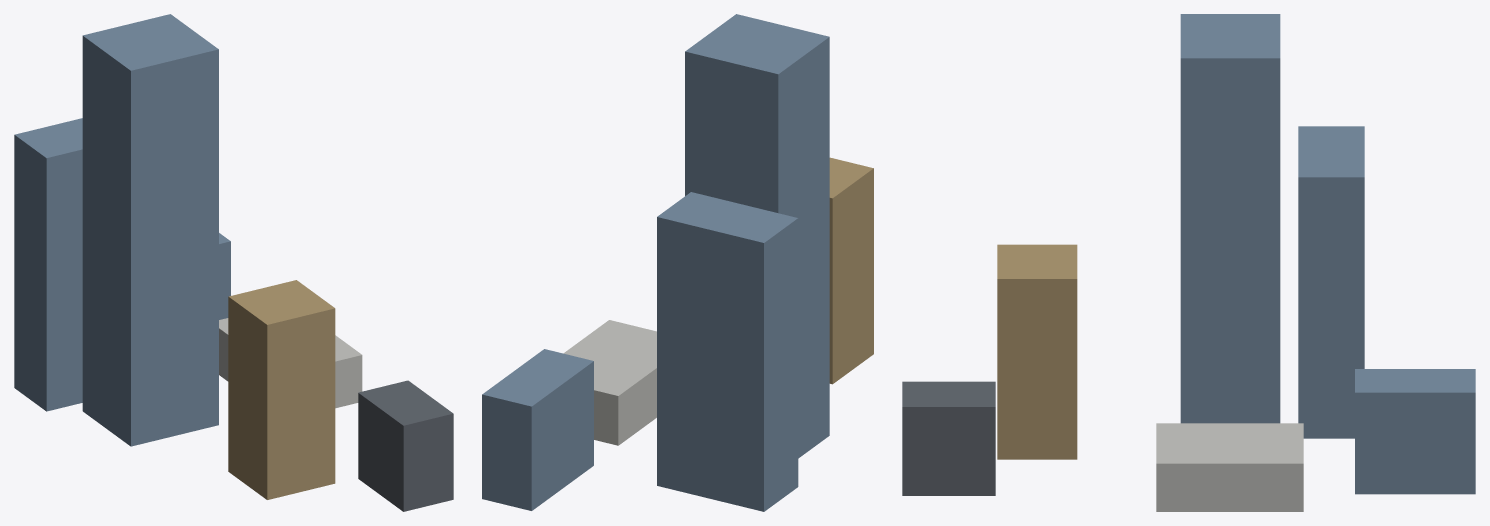
Rendered from synth-10-01.lod2.glb.
The picture shows the model from 3 angles, left to right: view 1: azimuth 30°, elevation 25°; view 2: azimuth 150°, elevation 25°; view 3: azimuth 270°, elevation 25°; orthographic projection. The views are drawn at different scales.
Visible parts, largest first — view 1: synth-10-01; view 2: synth-10-01; view 3: synth-10-01.
Boxes of the visible parts, x1,y1,x2,y2 form: synth-10-01: (14, 14, 453, 511); synth-10-01: (482, 14, 873, 511); synth-10-01: (902, 14, 1475, 511).
Bounding box in the file's own units: 42.33 × 61.56 × 82.59.
